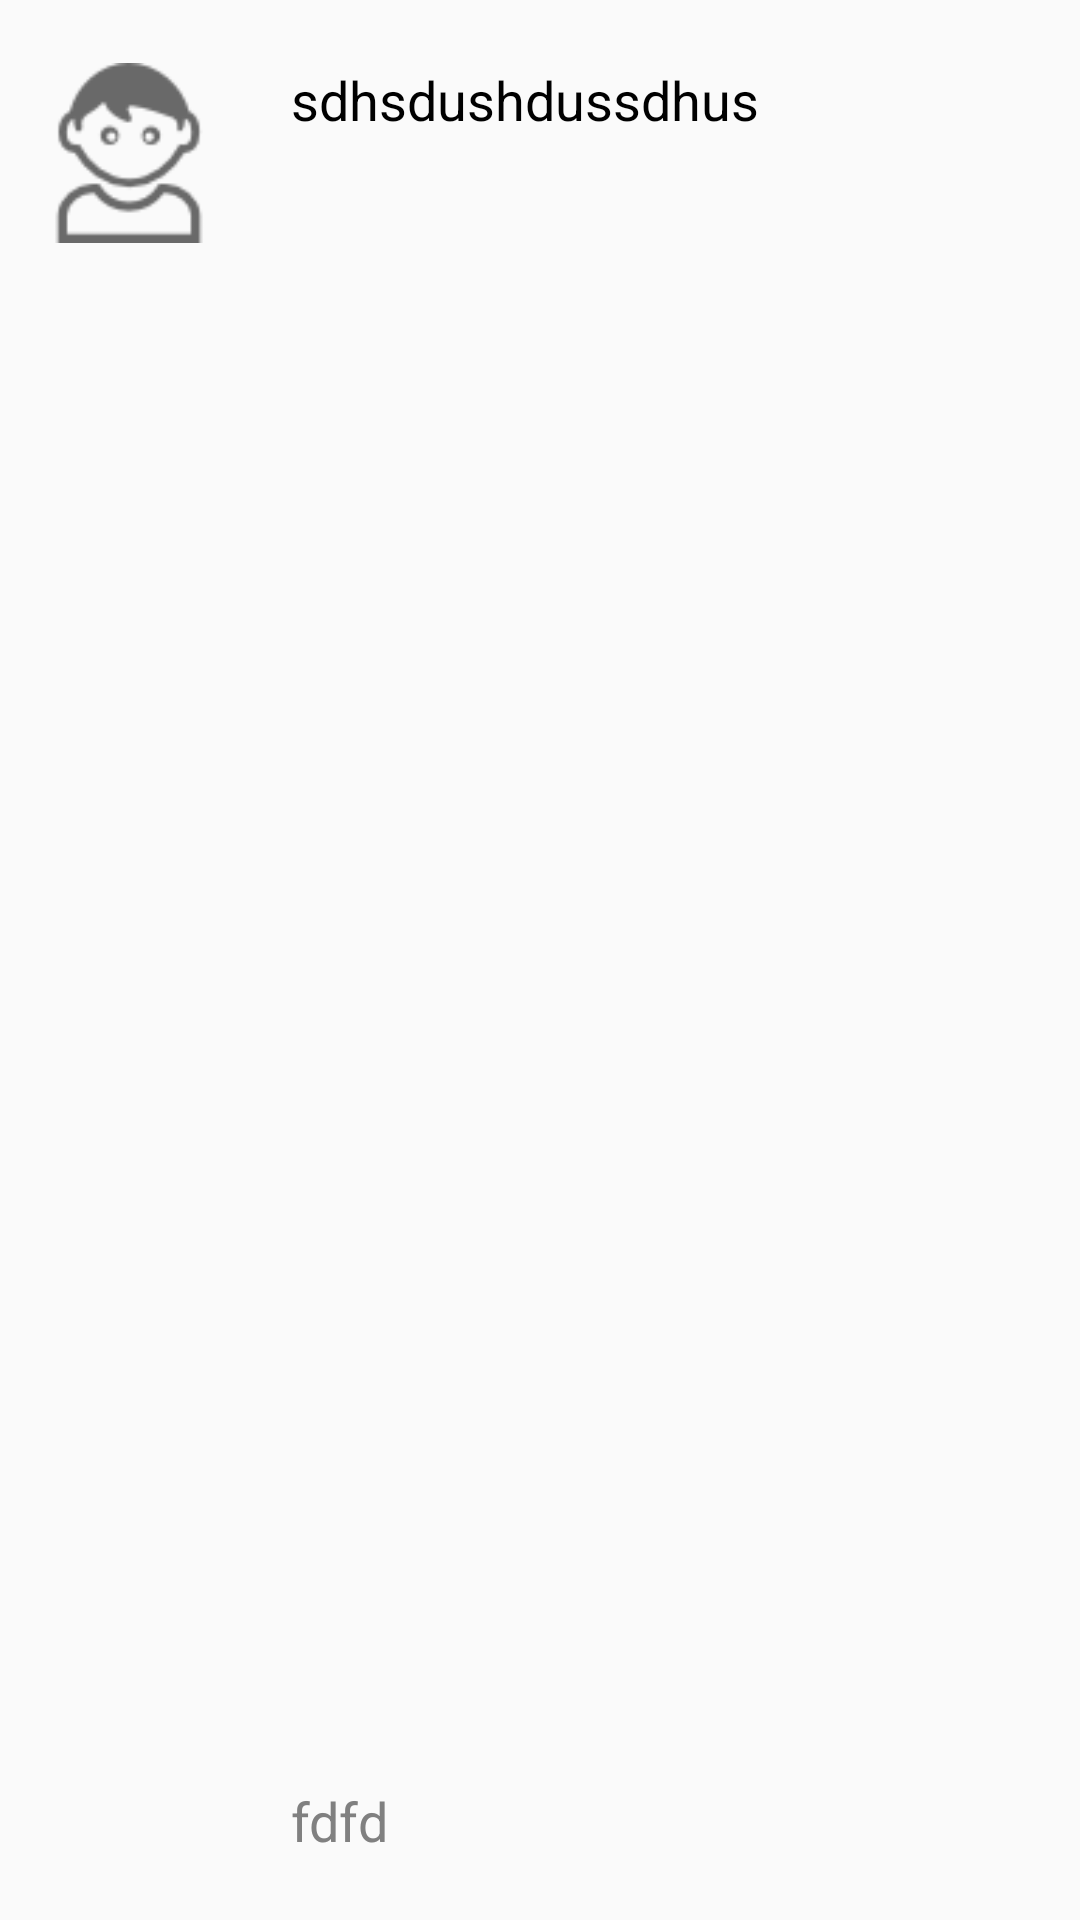

Named icons in this screenshot (1080*1920) and their centers, point (x, y):
child dim: point (129, 153)
